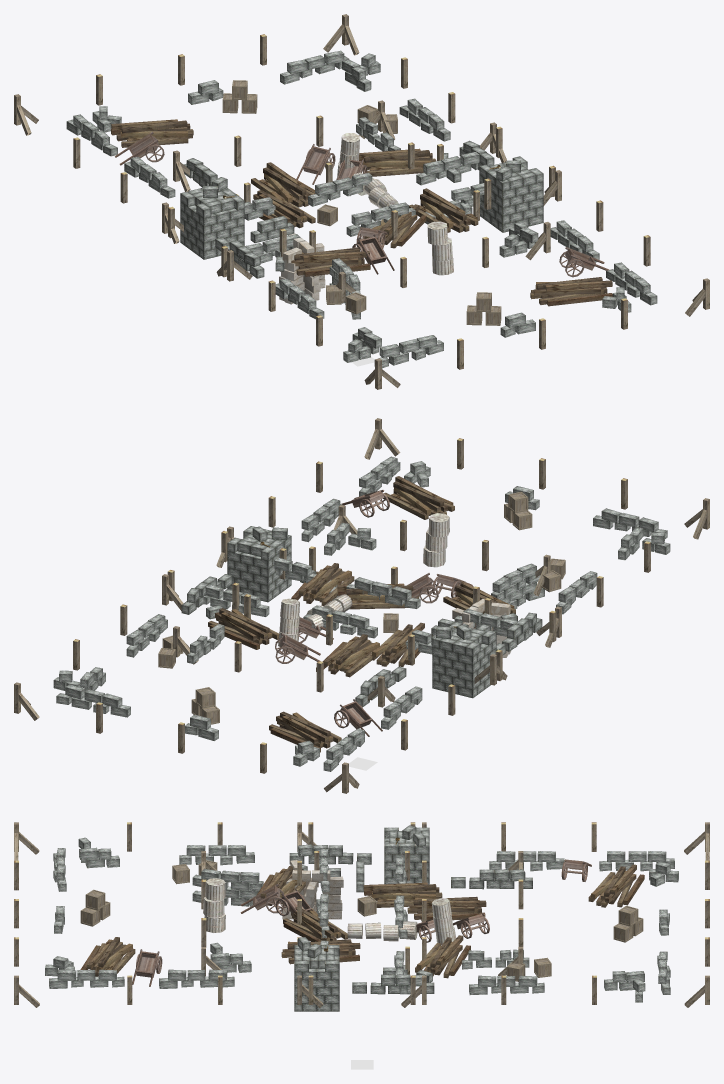
The model's file is fndn_8x15_hele.glb.
The picture shows the model from 3 angles, top to bottom: view 1: azimuth 30°, elevation 25°; view 2: azimuth 150°, elevation 25°; view 3: azimuth 270°, elevation 25°; orthographic projection. The views are drawn at different scales.
Visible parts, largest first — view 1: fndn_8x15_hele_part89, fndn_8x15_hele_part36, fndn_8x15_hele_part52, fndn_8x15_hele_part105, fndn_8x15_hele_part106, fndn_8x15_hele_part53, fndn_8x15_hele_part51, fndn_8x15_hele_part144, fndn_8x15_hele_part140, fndn_8x15_hele_part149, fndn_8x15_hele_part35, fndn_8x15_hele_part88 (+24 smaller); view 2: fndn_8x15_hele_part89, fndn_8x15_hele_part36, fndn_8x15_hele_part52, fndn_8x15_hele_part106, fndn_8x15_hele_part105, fndn_8x15_hele_part131, fndn_8x15_hele_part144, fndn_8x15_hele_part51, fndn_8x15_hele_part149, fndn_8x15_hele_part88, fndn_8x15_hele_part138, fndn_8x15_hele_part104 (+23 smaller); view 3: fndn_8x15_hele_part36, fndn_8x15_hele_part89, fndn_8x15_hele_part149, fndn_8x15_hele_part131, fndn_8x15_hele_part140, fndn_8x15_hele_part105, fndn_8x15_hele_part104, fndn_8x15_hele_part106, fndn_8x15_hele_part52, fndn_8x15_hele_part41, fndn_8x15_hele_part23, fndn_8x15_hele_part143 (+22 smaller).
Part boxes in pixels (x1=…): fndn_8x15_hele_part89: x1=180, y1=185, x2=244, y2=259; fndn_8x15_hele_part36: x1=479, y1=156, x2=543, y2=232; fndn_8x15_hele_part52: x1=530, y1=277, x2=612, y2=306; fndn_8x15_hele_part105: x1=111, y1=119, x2=193, y2=147; fndn_8x15_hele_part106: x1=359, y1=148, x2=436, y2=176; fndn_8x15_hele_part53: x1=291, y1=247, x2=370, y2=276; fndn_8x15_hele_part51: x1=409, y1=188, x2=478, y2=232; fndn_8x15_hele_part144: x1=251, y1=162, x2=315, y2=207; fndn_8x15_hele_part140: x1=279, y1=233, x2=325, y2=304; fndn_8x15_hele_part149: x1=337, y1=133, x2=398, y2=207; fndn_8x15_hele_part35: x1=374, y1=335, x2=443, y2=368; fndn_8x15_hele_part88: x1=280, y1=50, x2=349, y2=84; fndn_8x15_hele_part89: x1=432, y1=622, x2=496, y2=698; fndn_8x15_hele_part36: x1=227, y1=526, x2=291, y2=602; fndn_8x15_hele_part52: x1=383, y1=476, x2=454, y2=519; fndn_8x15_hele_part106: x1=208, y1=608, x2=279, y2=649; fndn_8x15_hele_part105: x1=269, y1=711, x2=341, y2=752; fndn_8x15_hele_part131: x1=491, y1=563, x2=544, y2=609; fndn_8x15_hele_part144: x1=316, y1=634, x2=379, y2=677; fndn_8x15_hele_part51: x1=291, y1=563, x2=354, y2=605; fndn_8x15_hele_part149: x1=278, y1=594, x2=352, y2=646; fndn_8x15_hele_part88: x1=56, y1=684, x2=130, y2=717; fndn_8x15_hele_part138: x1=423, y1=513, x2=449, y2=567; fndn_8x15_hele_part104: x1=372, y1=622, x2=432, y2=666; fndn_8x15_hele_part36: x1=294, y1=945, x2=339, y2=1011; fndn_8x15_hele_part89: x1=384, y1=827, x2=429, y2=884; fndn_8x15_hele_part149: x1=347, y1=898, x2=455, y2=945; fndn_8x15_hele_part131: x1=192, y1=868, x2=263, y2=906; fndn_8x15_hele_part140: x1=282, y1=860, x2=343, y2=919; fndn_8x15_hele_part105: x1=588, y1=864, x2=644, y2=907; fndn_8x15_hele_part104: x1=363, y1=882, x2=442, y2=907; fndn_8x15_hele_part106: x1=415, y1=935, x2=470, y2=978; fndn_8x15_hele_part52: x1=80, y1=937, x2=135, y2=976; fndn_8x15_hele_part41: x1=49, y1=969, x2=124, y2=988; fndn_8x15_hele_part23: x1=179, y1=845, x2=254, y2=865; fndn_8x15_hele_part143: x1=283, y1=907, x2=347, y2=941.
Bounding box in the file's own units: 6.81 × 3.74 × 12.9.
7 materials, 7 textured.
